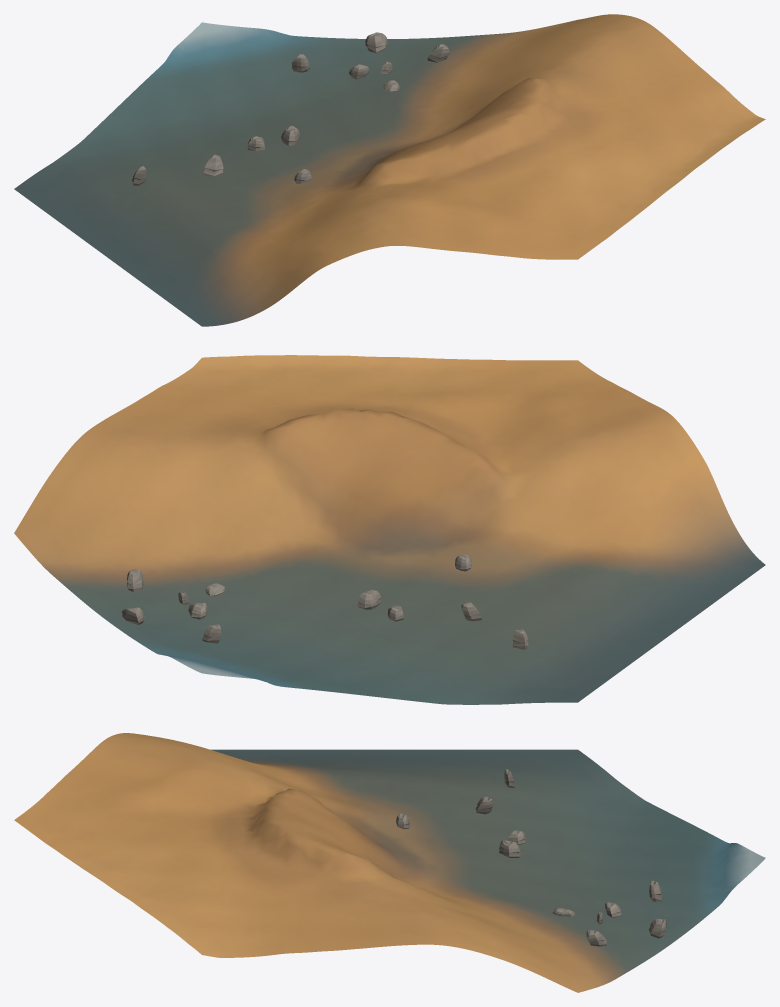
Rendered from costa_+00_-04.glb.
3 views of the same model, one above another, from view 1: azimuth 30°, elevation 25°; view 2: azimuth 150°, elevation 25°; view 3: azimuth 270°, elevation 25° (orthographic).
Parts seen in each view (by area): view 1: terrain, Formações costeiras; view 2: terrain, Formações costeiras; view 3: terrain, Formações costeiras.
Boxes of the visible parts, x1=… form: terrain: x1=14, y1=14, x2=765, y2=326; Formações costeiras: x1=132, y1=32, x2=449, y2=185; terrain: x1=14, y1=355, x2=765, y2=704; Formações costeiras: x1=122, y1=554, x2=528, y2=649; terrain: x1=14, y1=733, x2=765, y2=992; Formações costeiras: x1=396, y1=769, x2=666, y2=946.
Bounding box in the file's own units: 4330 × 726 × 5000.
Materials: 1 (1 with a texture image).
